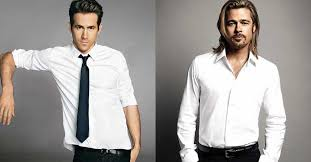F_belt: (197, 142, 262, 155)
F_shirt: (10, 42, 139, 152), (175, 46, 286, 162)
F_tie: (75, 55, 96, 145)
